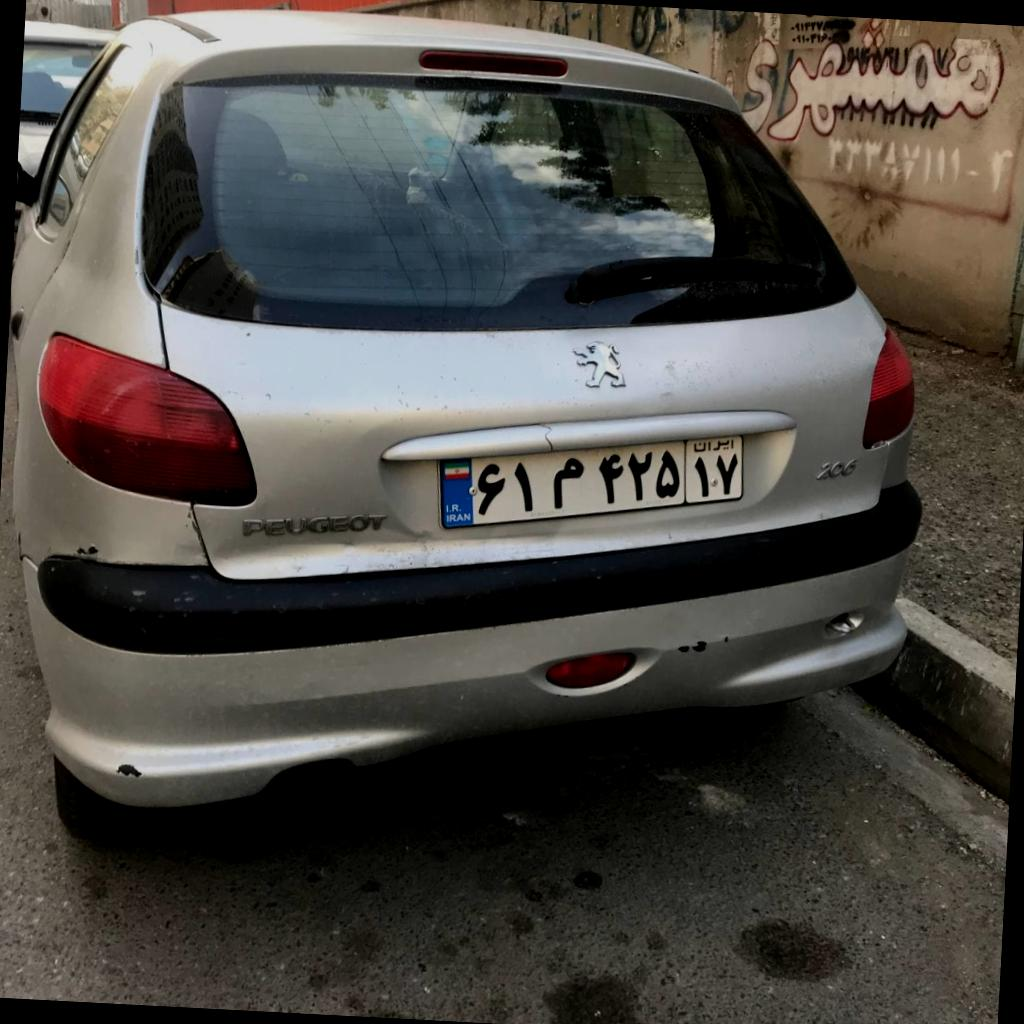Plates: (441, 436, 742, 527)
